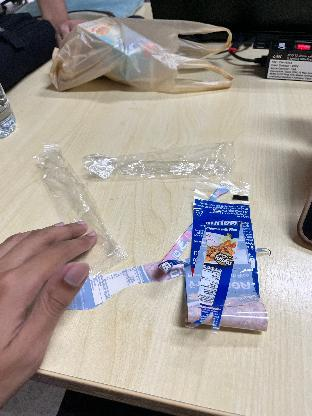Others: (166, 185, 272, 341), (23, 152, 131, 268), (78, 137, 246, 187)
